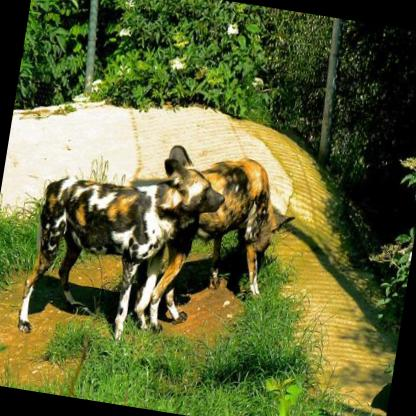African_hunting_dog: (10, 116, 233, 361), (144, 146, 302, 350)
